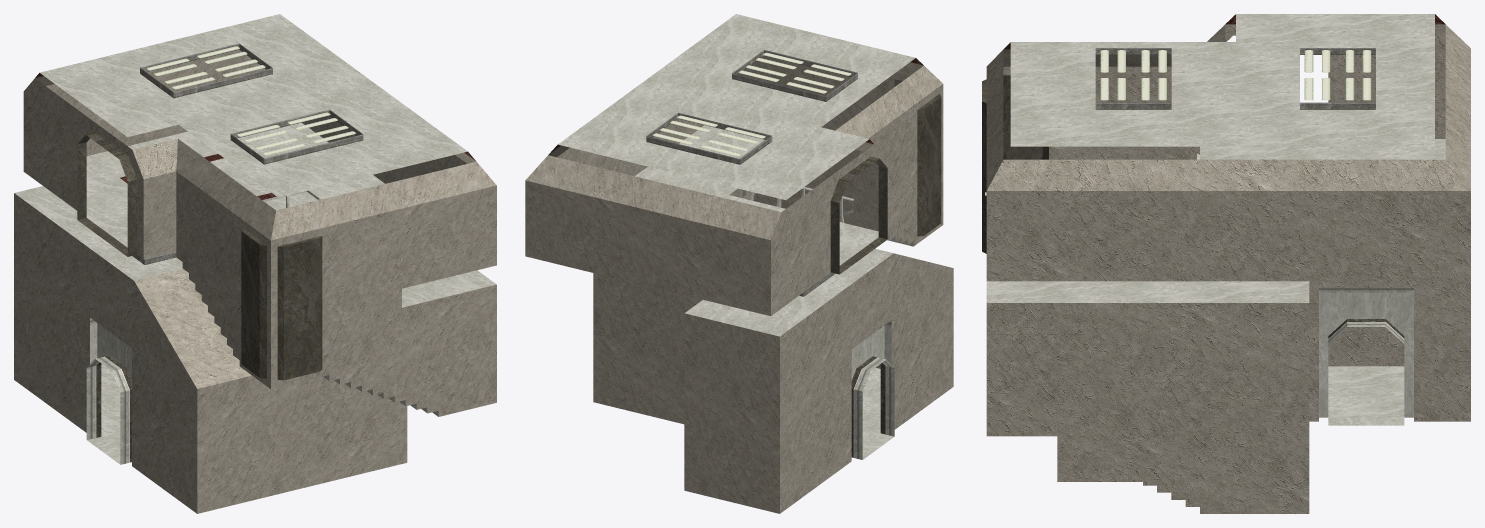
File: thm_all_assoc_hall_civ_s01_r4_stairwella_mesh_stairwella.fbx
The picture shows the model from 3 angles, left to right: view 1: azimuth 30°, elevation 25°; view 2: azimuth 150°, elevation 25°; view 3: azimuth 270°, elevation 25°; orthographic projection. The views are drawn at different scales.
Visible parts, largest first — view 1: mesh_node; view 2: mesh_node; view 3: mesh_node.
Boxes of the visible parts, box(x1,y1,x2,y2) form: mesh_node: box(14, 14, 496, 513); mesh_node: box(525, 14, 953, 513); mesh_node: box(982, 14, 1470, 513).
Size of the model in its own units: 9.45 by 10.58 by 12.86.
